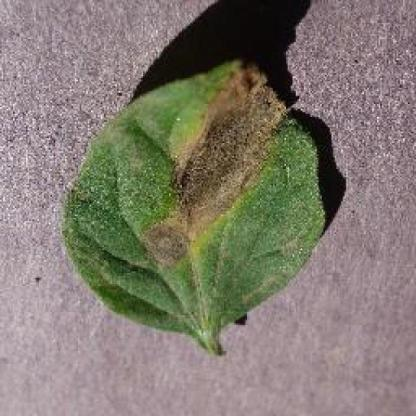Tomato_Blight: (68, 61, 326, 329)
